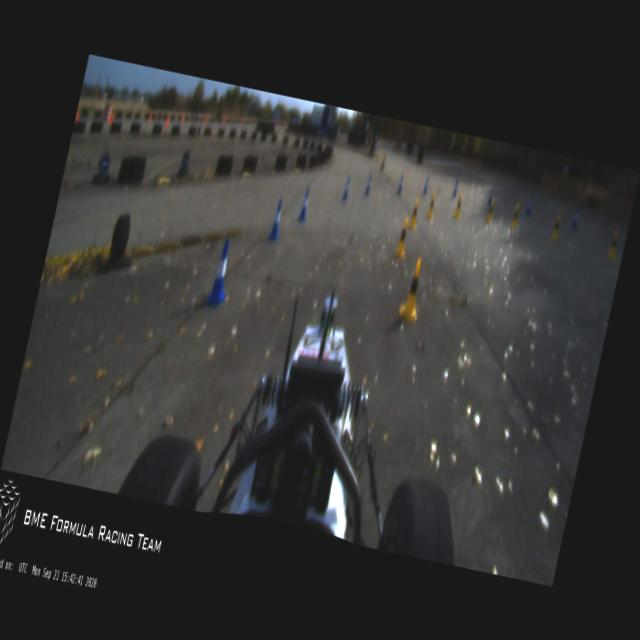blue_cone: (204, 237, 237, 306), (266, 198, 286, 240), (296, 189, 310, 221), (341, 174, 352, 198), (364, 173, 374, 195), (570, 206, 580, 228), (524, 195, 534, 216), (396, 173, 404, 196), (421, 177, 429, 196), (486, 187, 494, 204), (452, 179, 459, 198)
yellow_cone: (396, 255, 428, 322), (394, 214, 412, 257), (606, 226, 621, 262), (548, 210, 564, 242), (452, 192, 465, 220), (425, 191, 437, 218), (408, 198, 420, 225), (484, 197, 496, 223), (510, 203, 520, 228)
